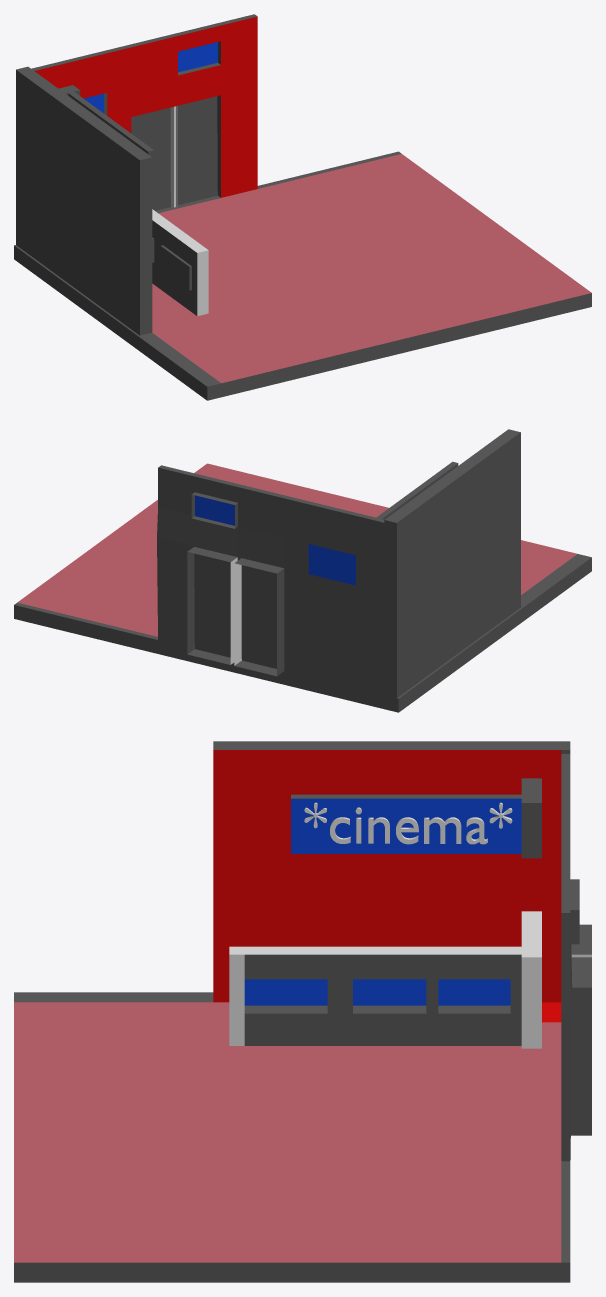
The model's file is Cinema Area.fbx.
3 views of the same model, one above another, from view 1: azimuth 30°, elevation 25°; view 2: azimuth 150°, elevation 25°; view 3: azimuth 270°, elevation 25° (orthographic). The views are drawn at different scales.
Visible parts, largest first — view 1: Cube; view 2: Cube; view 3: Cube, Text.
Part boxes in pixels (<box>): Cube: <box>14,14,591,400</box>; Cube: <box>14,429,591,712</box>; Cube: <box>14,741,591,1282</box>; Text: <box>304,802,512,844</box>.
Size of the model in its own units: 4114 by 1934 by 3719.
